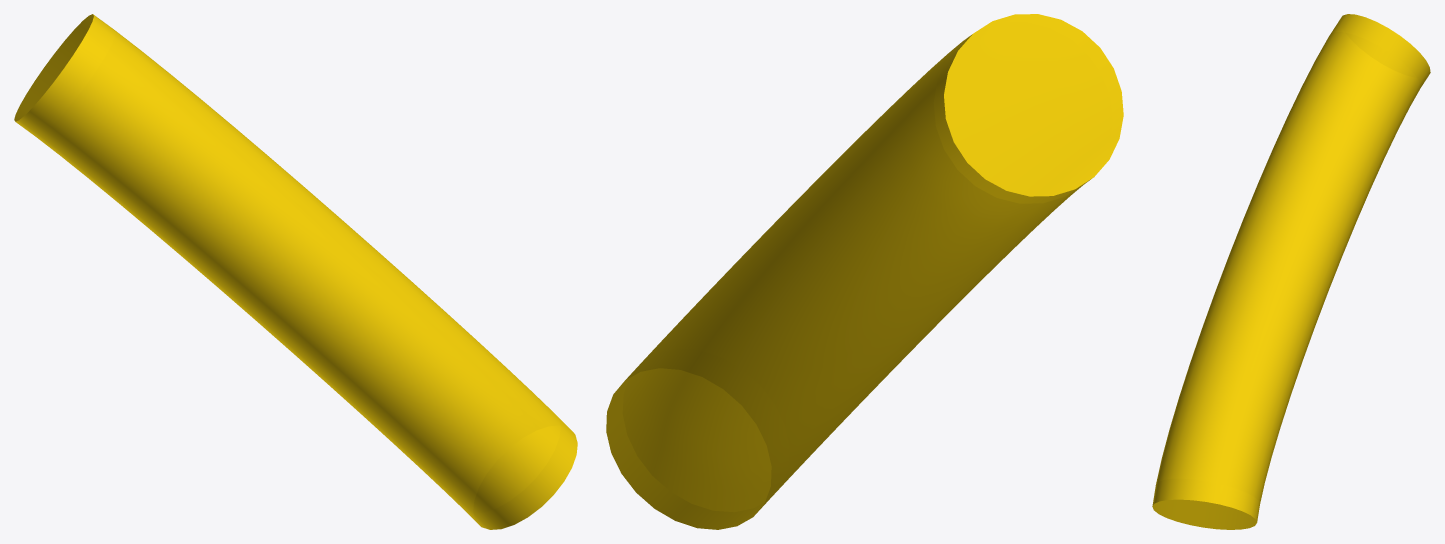
File: Event_420107950_track_50.fbx
The picture shows the model from 3 angles, left to right: view 1: azimuth 30°, elevation 25°; view 2: azimuth 150°, elevation 25°; view 3: azimuth 270°, elevation 25°; orthographic projection. The views are drawn at different scales.
Visible parts, largest first — view 1: Model; view 2: Model; view 3: Model.
Part boxes in pixels (x1,y1,x2,y2): Model: (14, 14, 577, 529); Model: (606, 14, 1123, 529); Model: (1152, 14, 1430, 529).
Bounding box in the file's own units: 0.1552 × 0.1663 × 0.105.
